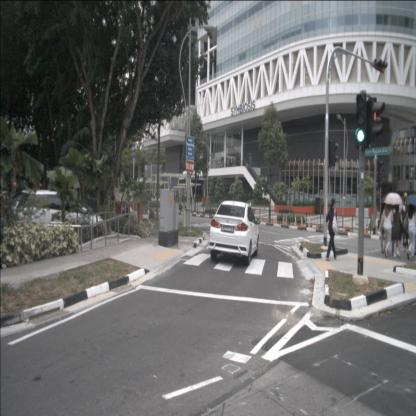cone: (363, 222, 367, 234), (343, 220, 346, 232), (350, 221, 353, 232), (294, 216, 297, 226), (300, 217, 303, 227), (308, 218, 311, 227), (282, 216, 285, 224), (267, 214, 270, 222), (285, 216, 288, 224), (275, 216, 278, 224), (273, 216, 276, 224), (316, 219, 318, 228), (260, 214, 262, 222)
